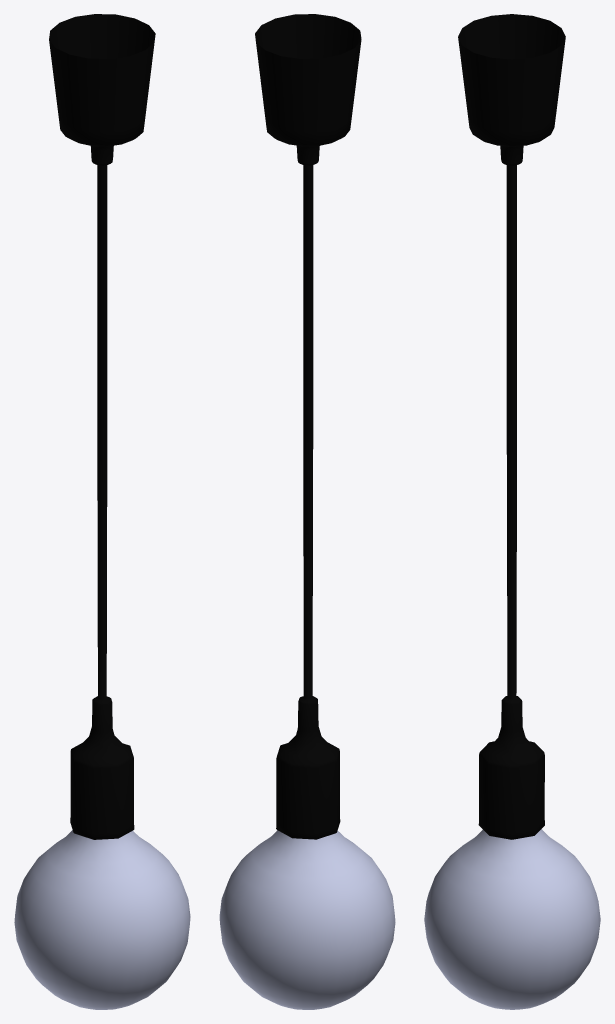
File: SM_Pendantlight_005_D.FBX
The picture shows the model from 3 angles, left to right: view 1: azimuth 30°, elevation 25°; view 2: azimuth 150°, elevation 25°; view 3: azimuth 270°, elevation 25°; orthographic projection.
Visible parts, largest first — view 1: SM_Pendantlight_005_D; view 2: SM_Pendantlight_005_D; view 3: SM_Pendantlight_005_D.
Boxes of the visible parts, <box> form: SM_Pendantlight_005_D: <box>14,14,190,1009</box>; SM_Pendantlight_005_D: <box>219,14,395,1009</box>; SM_Pendantlight_005_D: <box>424,14,600,1009</box>.
Bounding box in the file's own units: 9.5 × 9.5 × 57.39.
